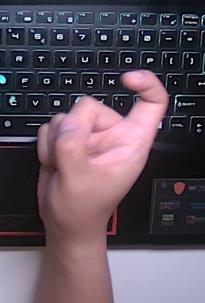anticlockwise: (34, 64, 173, 230)
